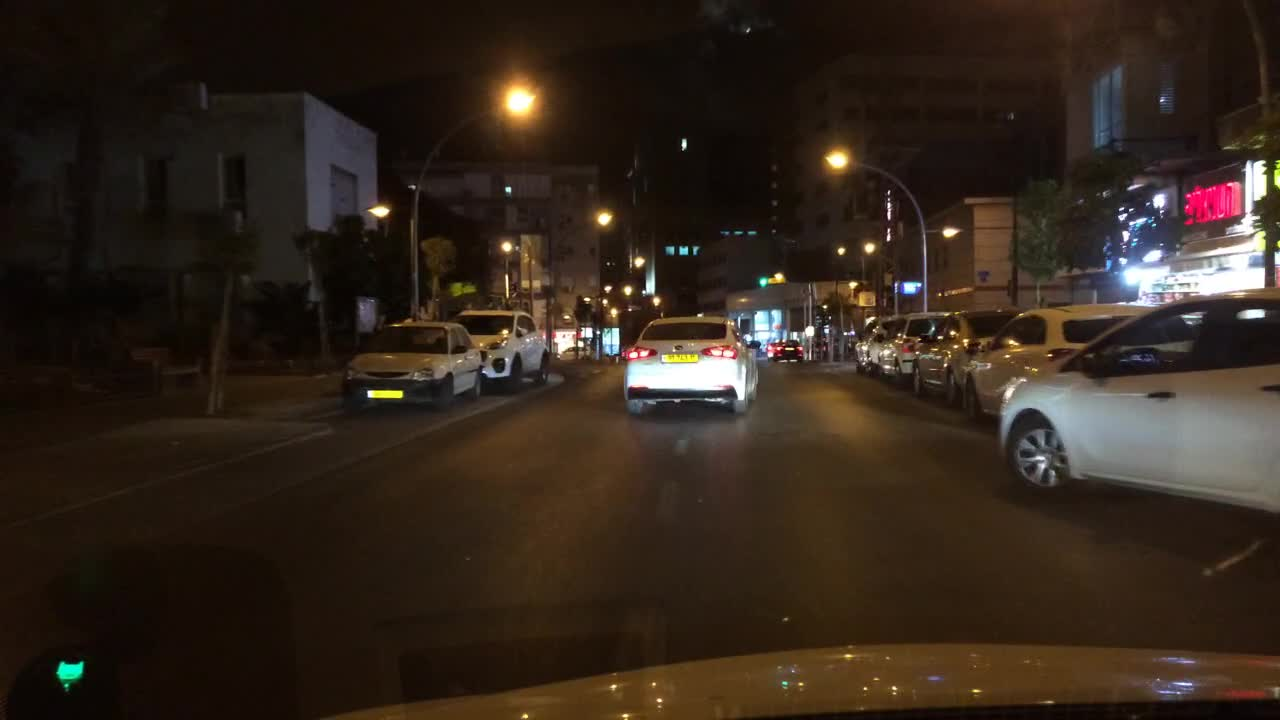car: (993, 285, 1278, 535), (959, 300, 1189, 439), (617, 312, 762, 418), (337, 318, 483, 414), (910, 305, 1023, 405), (448, 307, 551, 395), (892, 309, 959, 394), (862, 310, 909, 381), (852, 315, 889, 376), (773, 338, 805, 365), (558, 345, 605, 361), (766, 340, 781, 359)
person: (742, 327, 756, 350)
traffic sign: (357, 295, 380, 334), (857, 291, 877, 307)
